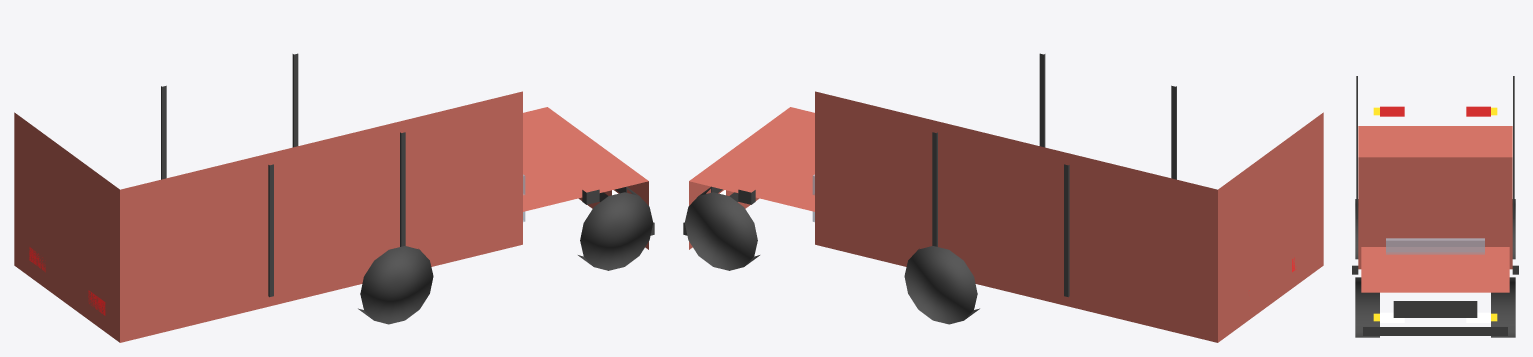
The model's file is truck.gltf.
3 views of the same model, side by side, from view 1: azimuth 30°, elevation 25°; view 2: azimuth 150°, elevation 25°; view 3: azimuth 270°, elevation 25° (orthographic). The views are drawn at different scales.
Visible parts, largest first — view 1: cargo, cab, wheel_FR, wheel_RR, cargo_rib_4, cargo_rib_3, cargo_rib_1, cargo_rib_2; view 2: cargo, cab, wheel_FL, wheel_RL, cargo_rib_2, cargo_rib_1, cargo_rib_3, cargo_rib_4; view 3: cargo, cab, windshield, grille, bumper, wheel_FL, wheel_FR, brakelight_L, brakelight_R, wheel_RL, wheel_RR, headlight_L (+3 smaller).
Part boxes in pixels (x1,y1,x2,y2): cargo: [14, 91, 522, 342]; cab: [523, 107, 648, 249]; wheel_FR: [578, 186, 653, 270]; wheel_RR: [358, 246, 433, 324]; cargo_rib_4: [268, 164, 273, 297]; cargo_rib_3: [400, 132, 405, 246]; cargo_rib_1: [292, 53, 298, 147]; cargo_rib_2: [161, 85, 166, 179]; cargo: [815, 91, 1323, 342]; cab: [689, 107, 814, 249]; wheel_FL: [684, 186, 759, 270]; wheel_RL: [904, 246, 979, 324]; cargo_rib_2: [1064, 164, 1069, 297]; cargo_rib_1: [932, 132, 937, 246]; cargo_rib_3: [1039, 53, 1045, 147]; cargo_rib_4: [1171, 85, 1176, 179]; cargo: [1358, 126, 1512, 269]; cab: [1361, 247, 1509, 292]; windshield: [1386, 238, 1484, 254]; grille: [1393, 301, 1477, 317]; bumper: [1363, 327, 1507, 335]; wheel_FL: [1491, 277, 1515, 337]; wheel_FR: [1355, 277, 1379, 337]; brakelight_L: [1466, 106, 1490, 116]; brakelight_R: [1380, 106, 1404, 116]; wheel_RL: [1512, 199, 1515, 259]; wheel_RR: [1355, 199, 1358, 259]; headlight_L: [1466, 312, 1490, 322].
Bounding box in the file's own units: 7.34 × 2.59 × 2.7.
